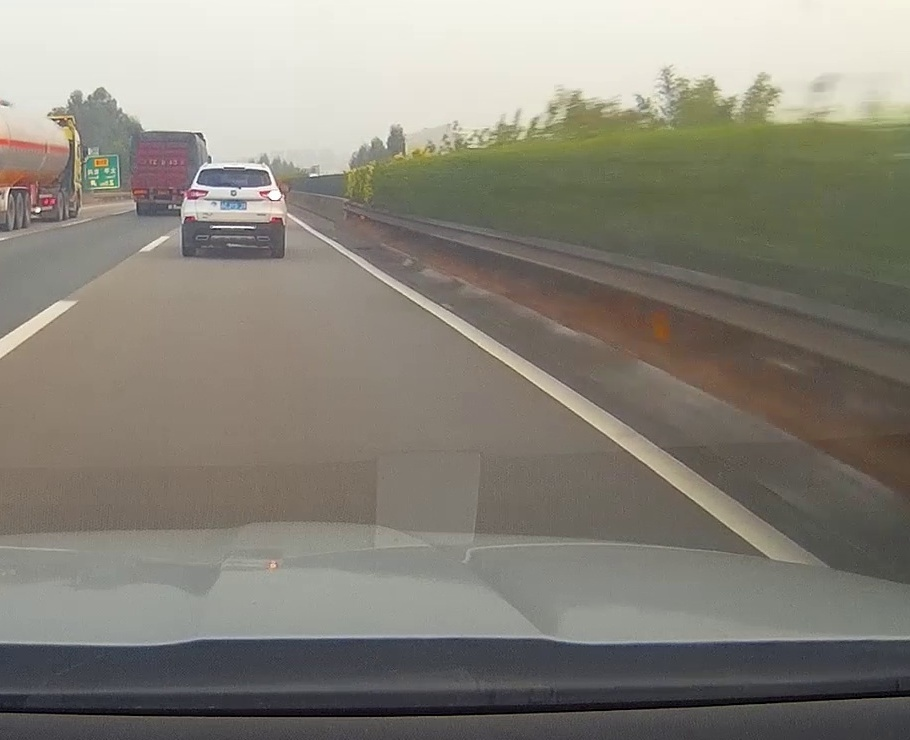L_light: (186, 189, 209, 200)
R_light: (259, 189, 281, 200)
T_light: (223, 167, 245, 170)
day-right: (181, 163, 287, 258)
